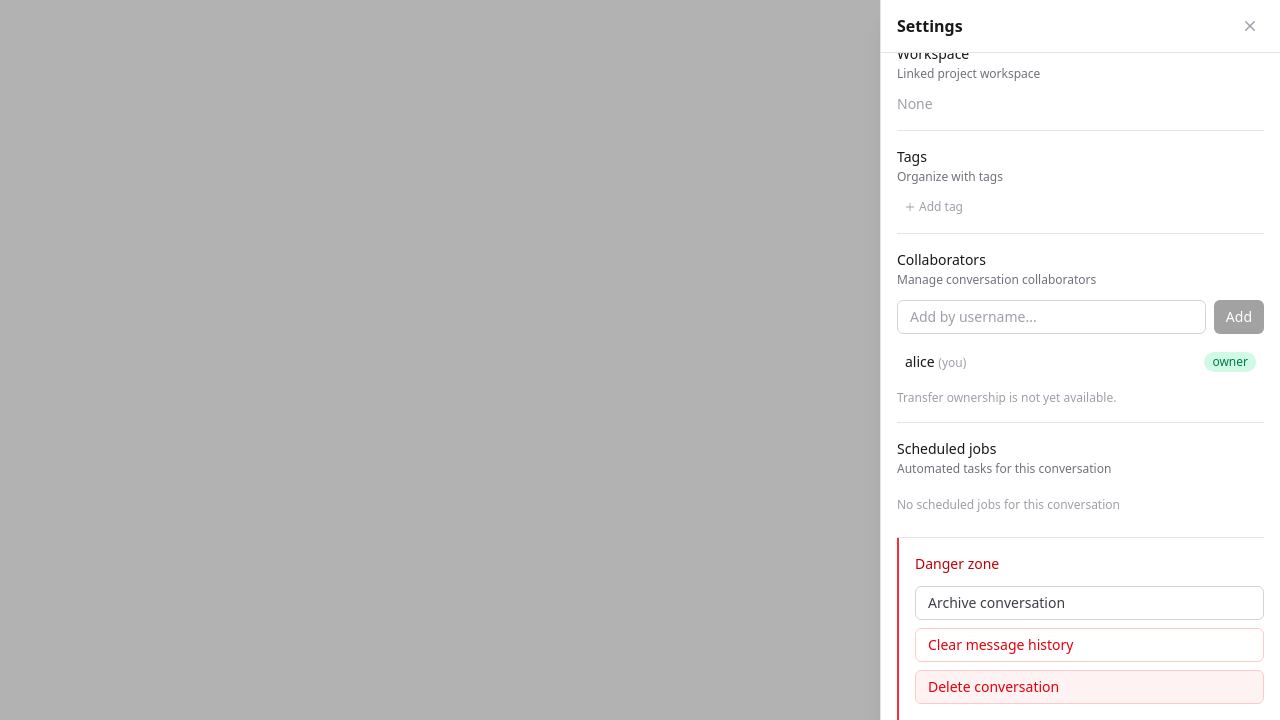
Test: ConversationSettings › clear history button opens confirm dialog
(page scrolled)
What coordinates should you click on to do the following:
click the button "Clear message history"
I would click on:
 (1001, 644)
Its box is left=915, top=628, right=1264, bottom=662.
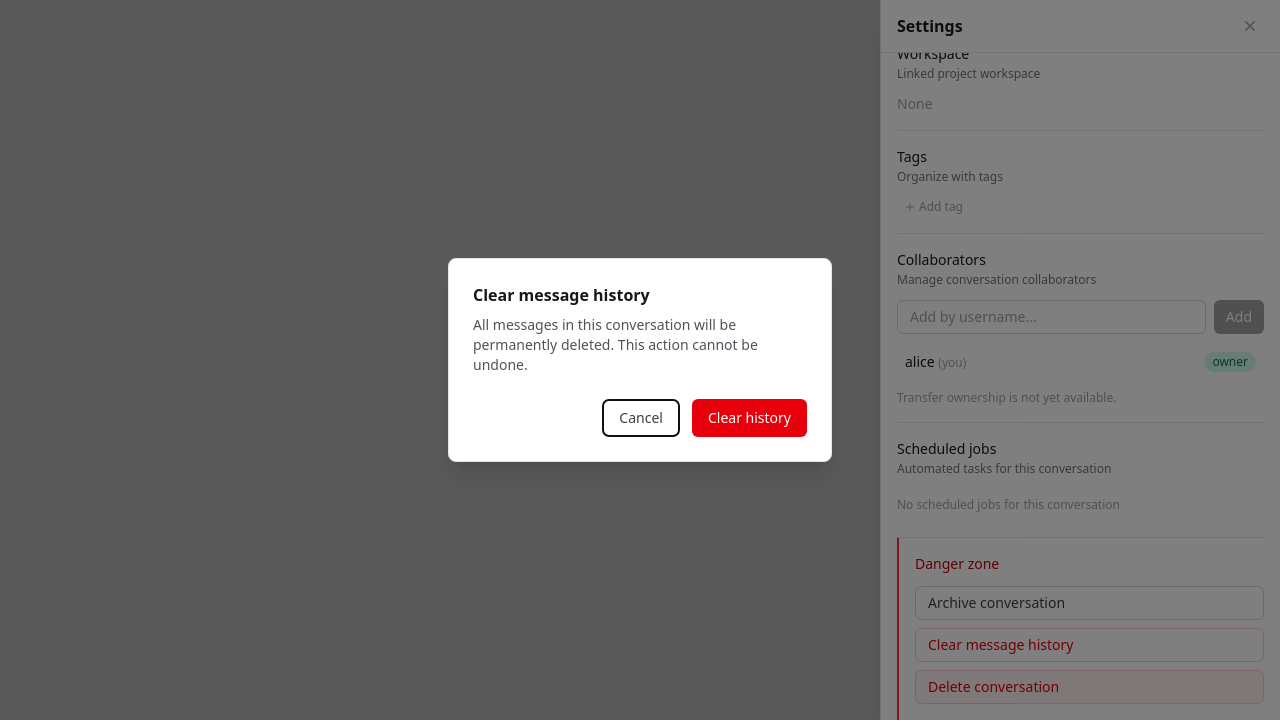
Expected: the text "All messages in this conversation will be permanently deleted. This action cannot be undone." is shown, left=473, top=315, right=758, bottom=374
